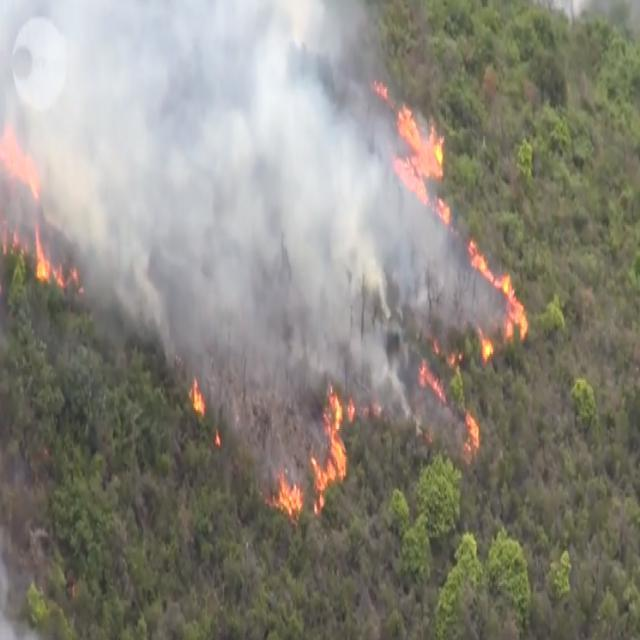Fire: (255, 376, 372, 518), (368, 68, 457, 236), (464, 227, 534, 382), (415, 354, 485, 459), (0, 209, 82, 291), (184, 359, 222, 457), (0, 118, 40, 200)
Smoke: (96, 0, 388, 236), (178, 238, 508, 378), (0, 0, 96, 233), (84, 235, 178, 359), (222, 376, 324, 481), (372, 381, 463, 447)
